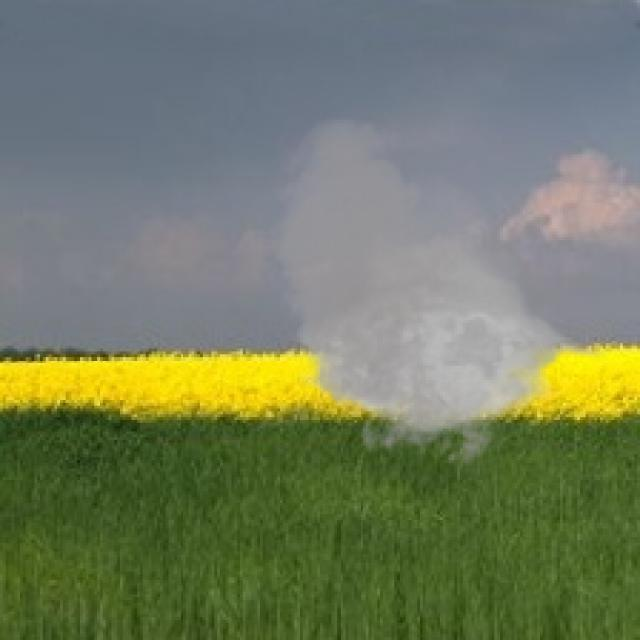Smoke: (259, 112, 612, 477)
